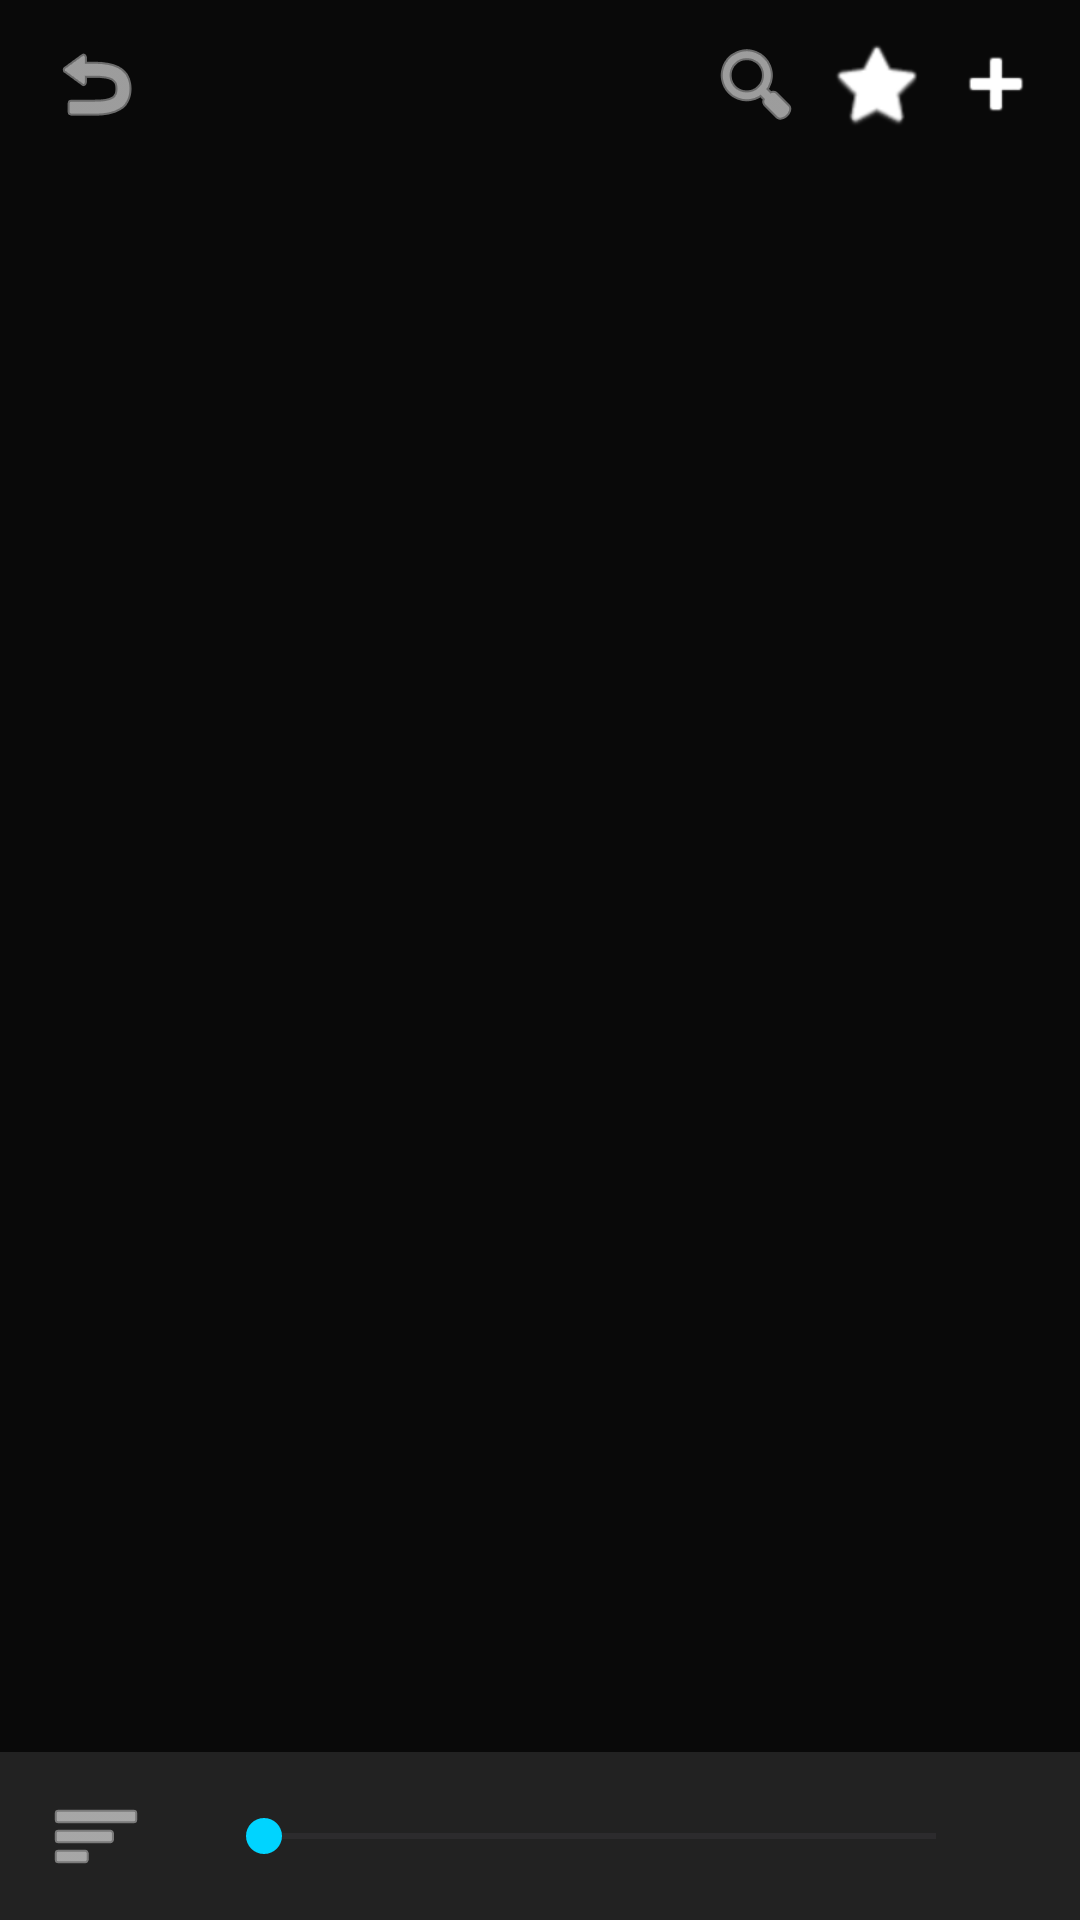

Named icons in this screenshot (1080px x 1920px) and their centers, (x,y):
add: (996,84)
revert: (97,84)
search: (756,84)
sort by size: (96,1836)
